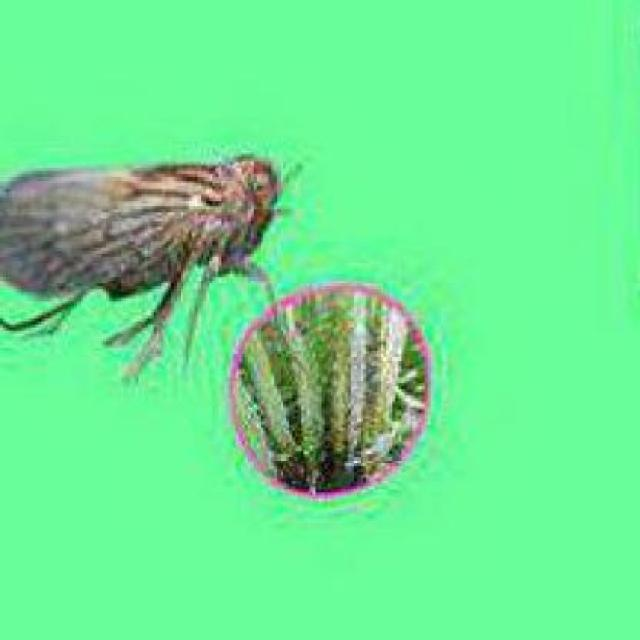brown-planthopper: (2, 152, 289, 310)
